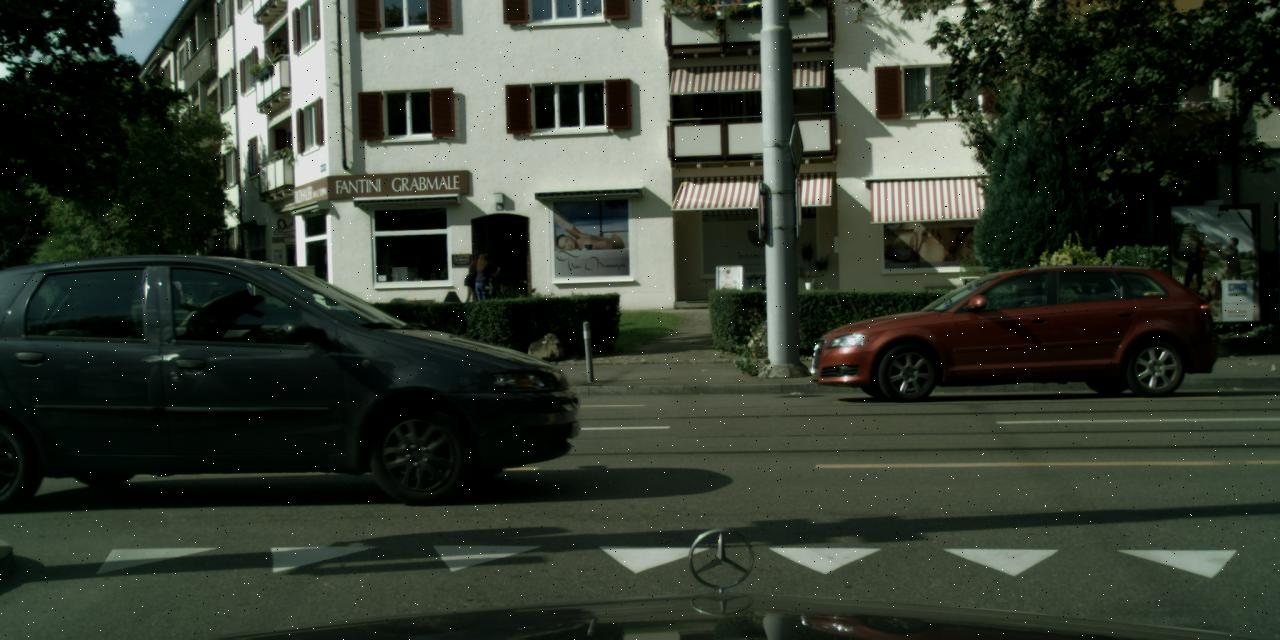ped: (471, 252, 496, 311), (464, 257, 484, 309)
